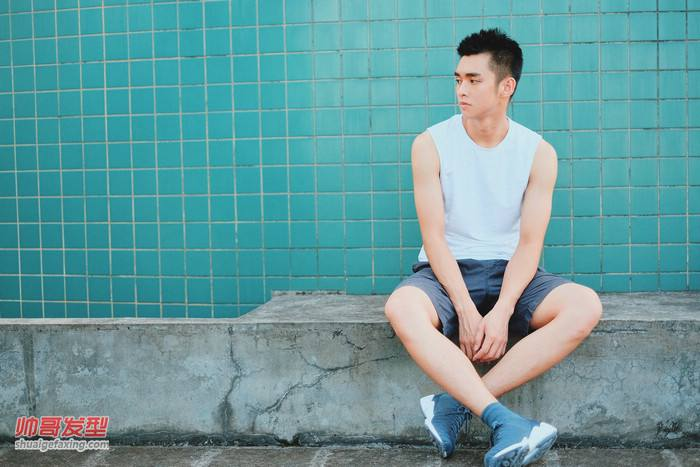person: (362, 23, 571, 463)
